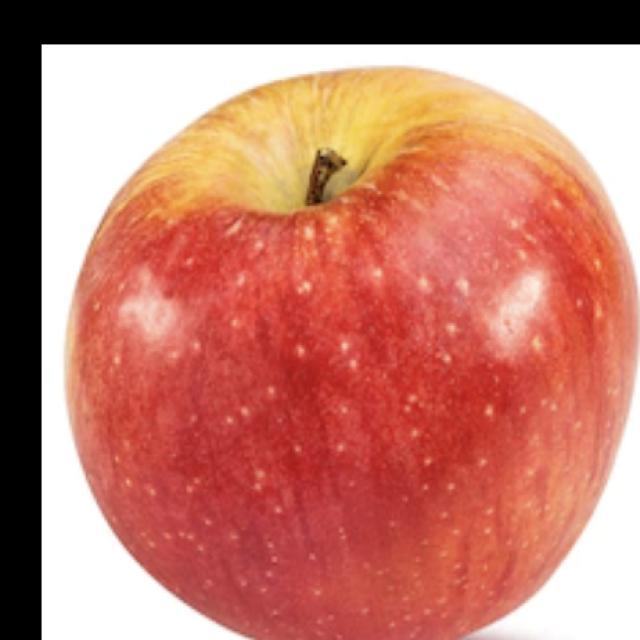Apple: (63, 64, 639, 639)
